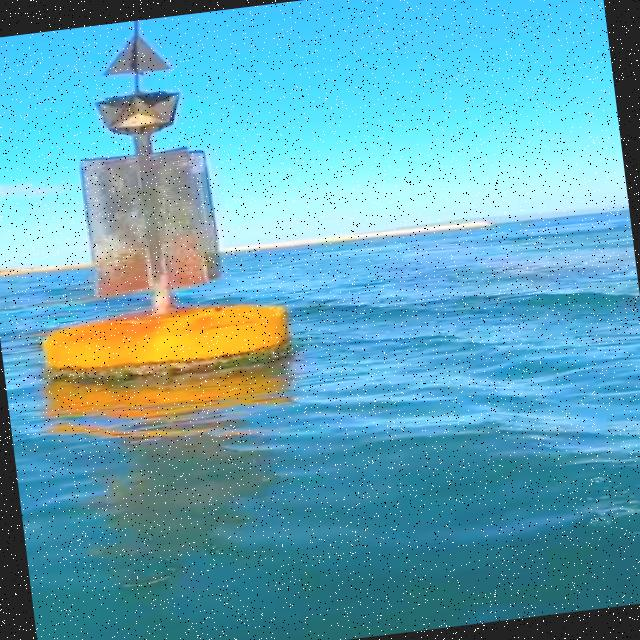marque: (1, 6, 307, 395)
